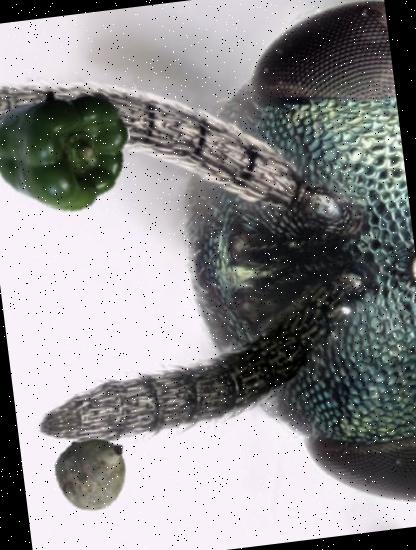Beetroot: (46, 416, 151, 520)
Pepper: (0, 75, 140, 230)
